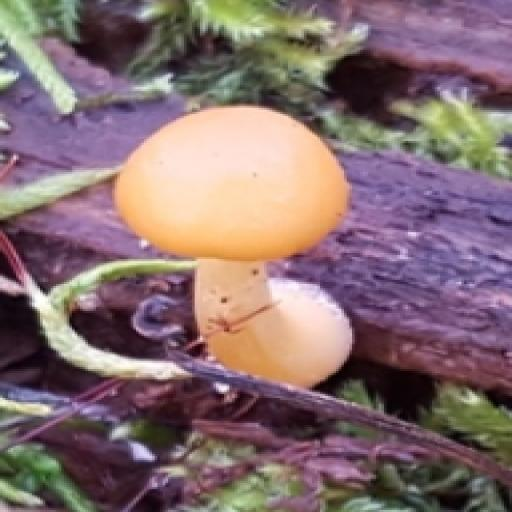mushroom: (114, 103, 361, 331)
